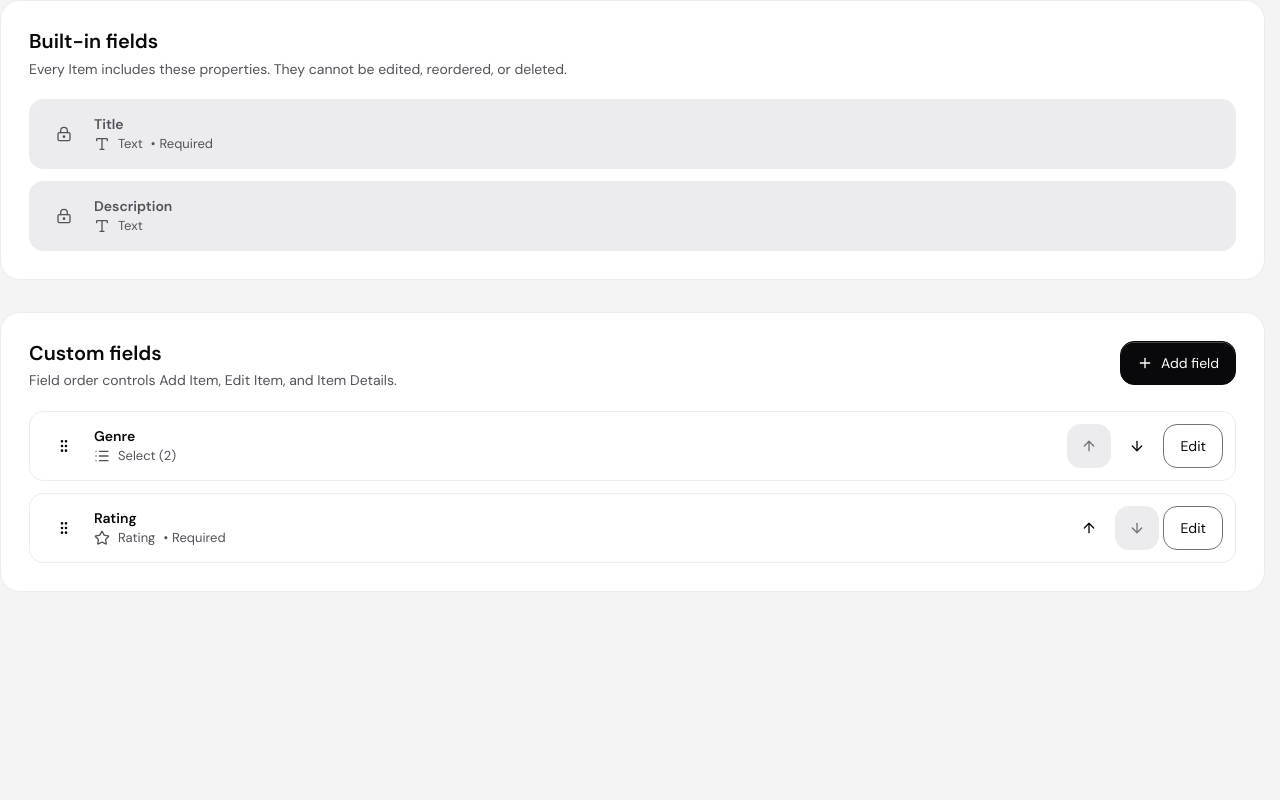
Test: Field manager › uses decorative Lucide icons with plain type labels and working typeahead
The image size is (1280, 800).
Click the button "Add field" at (1178, 363), box [1120,341,1236,385]
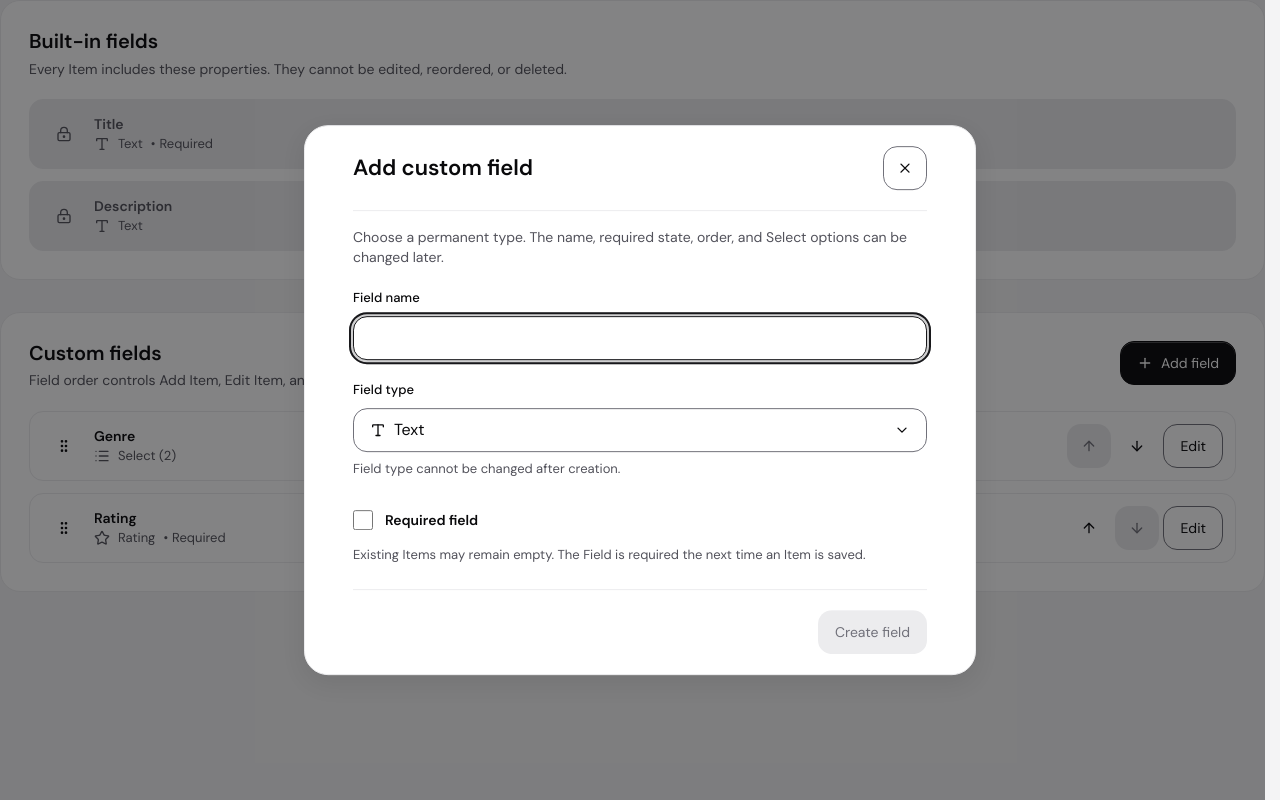
Click the dropdown named "Field type" at (409, 429), box [353,408,927,452]
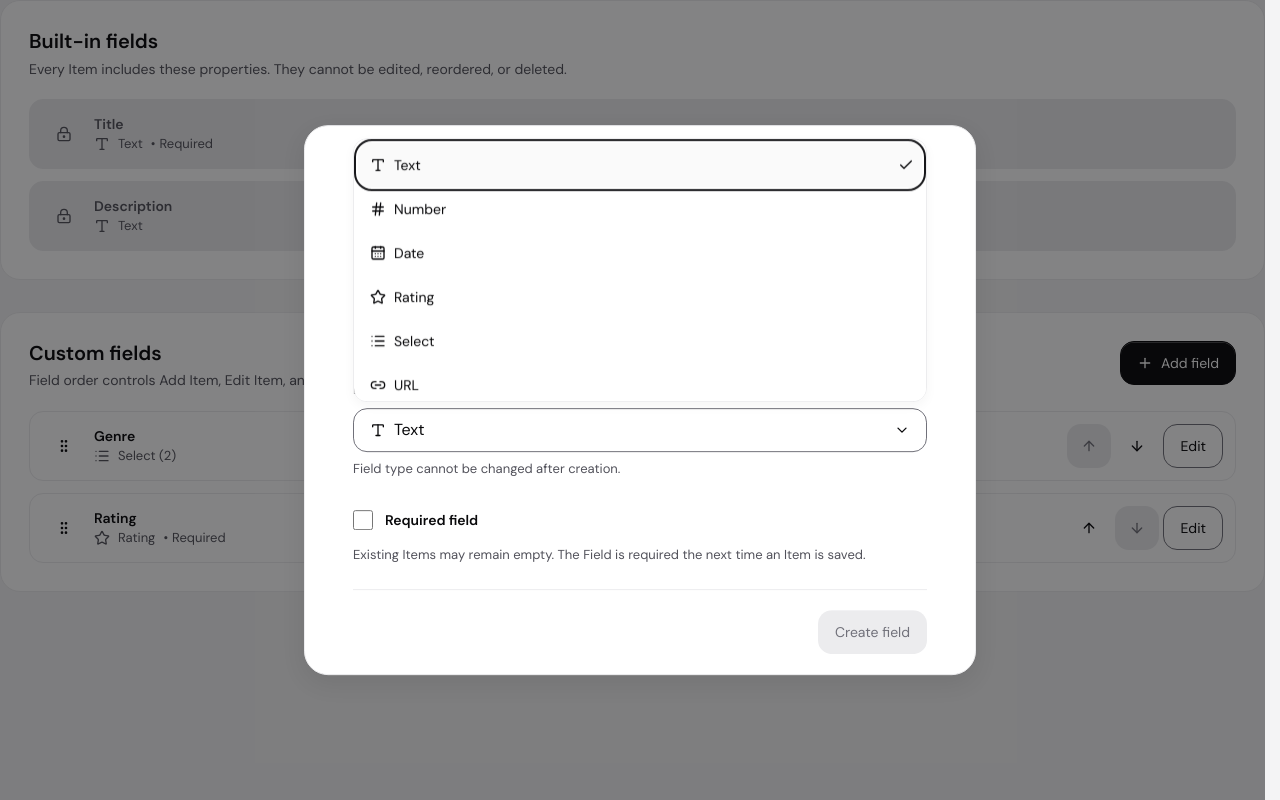
Click the option "Text" at (378, 165), box [358,143,922,187]
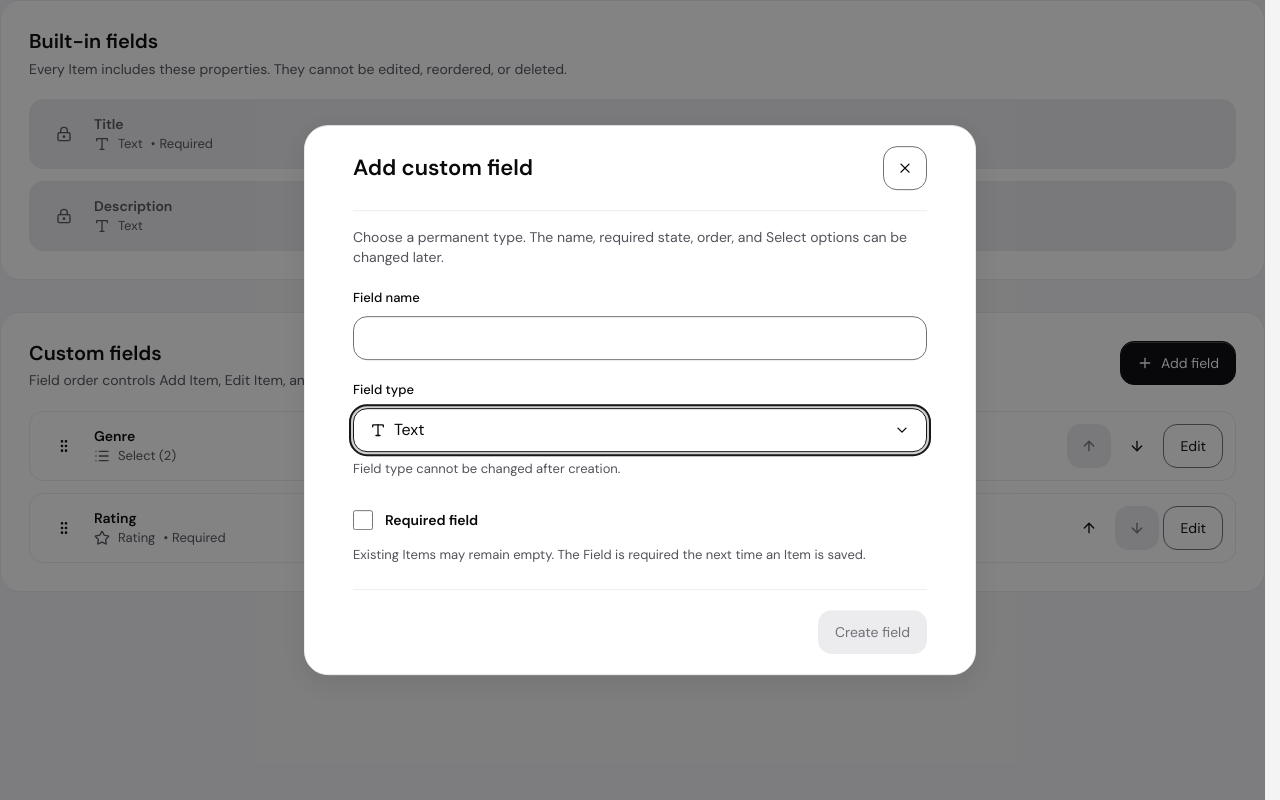
Type keys "n"
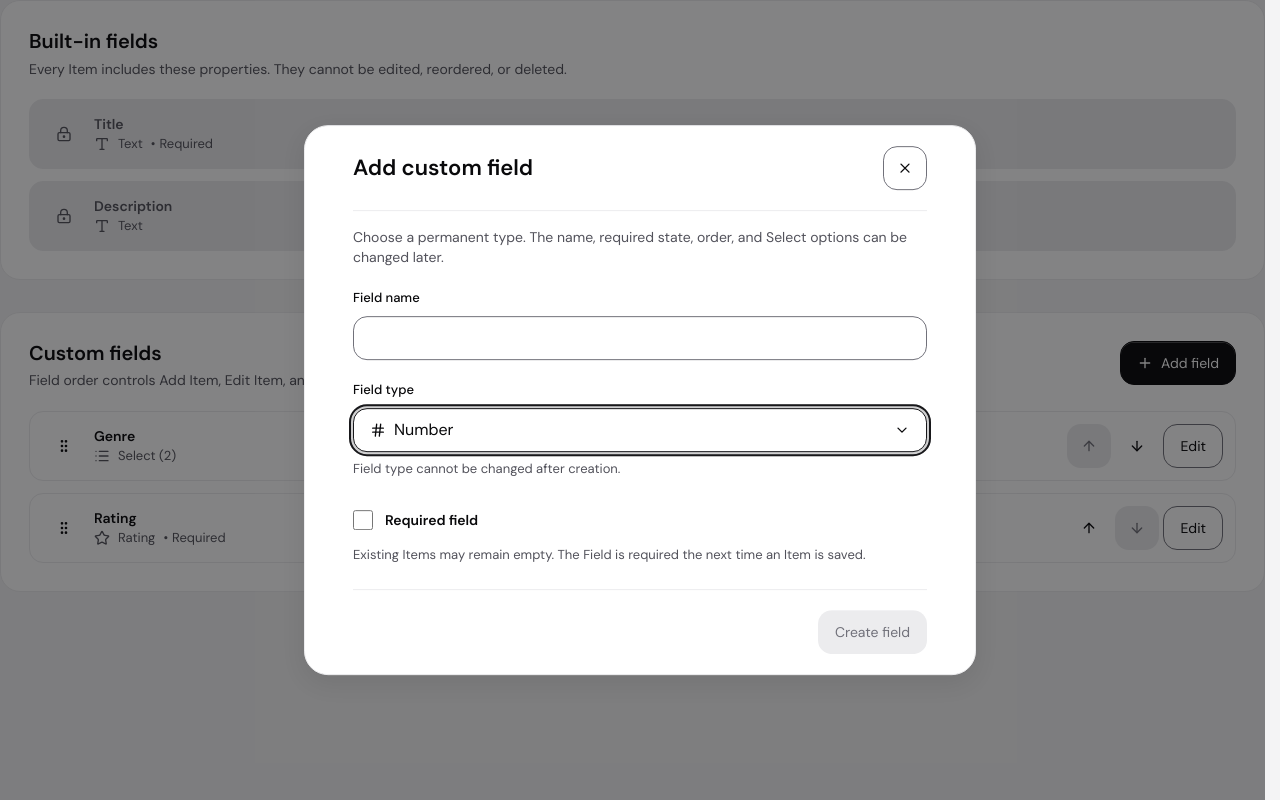
Expected: the 2nd icon is shown, [370,422,386,438]
Expected: the dropdown named "Field type" reads "Number", [353,408,927,452]
